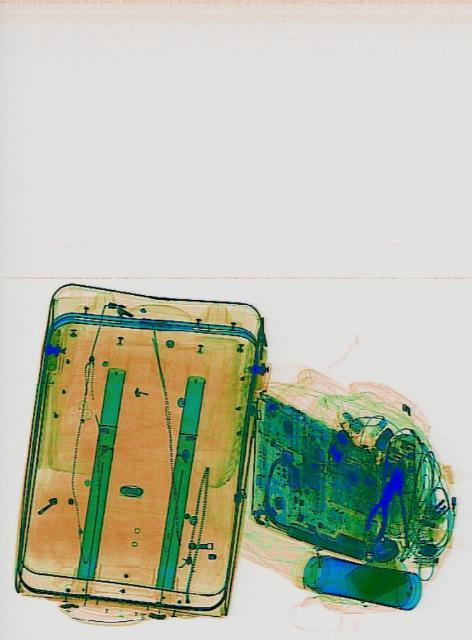Pliers: (358, 460, 409, 544)
